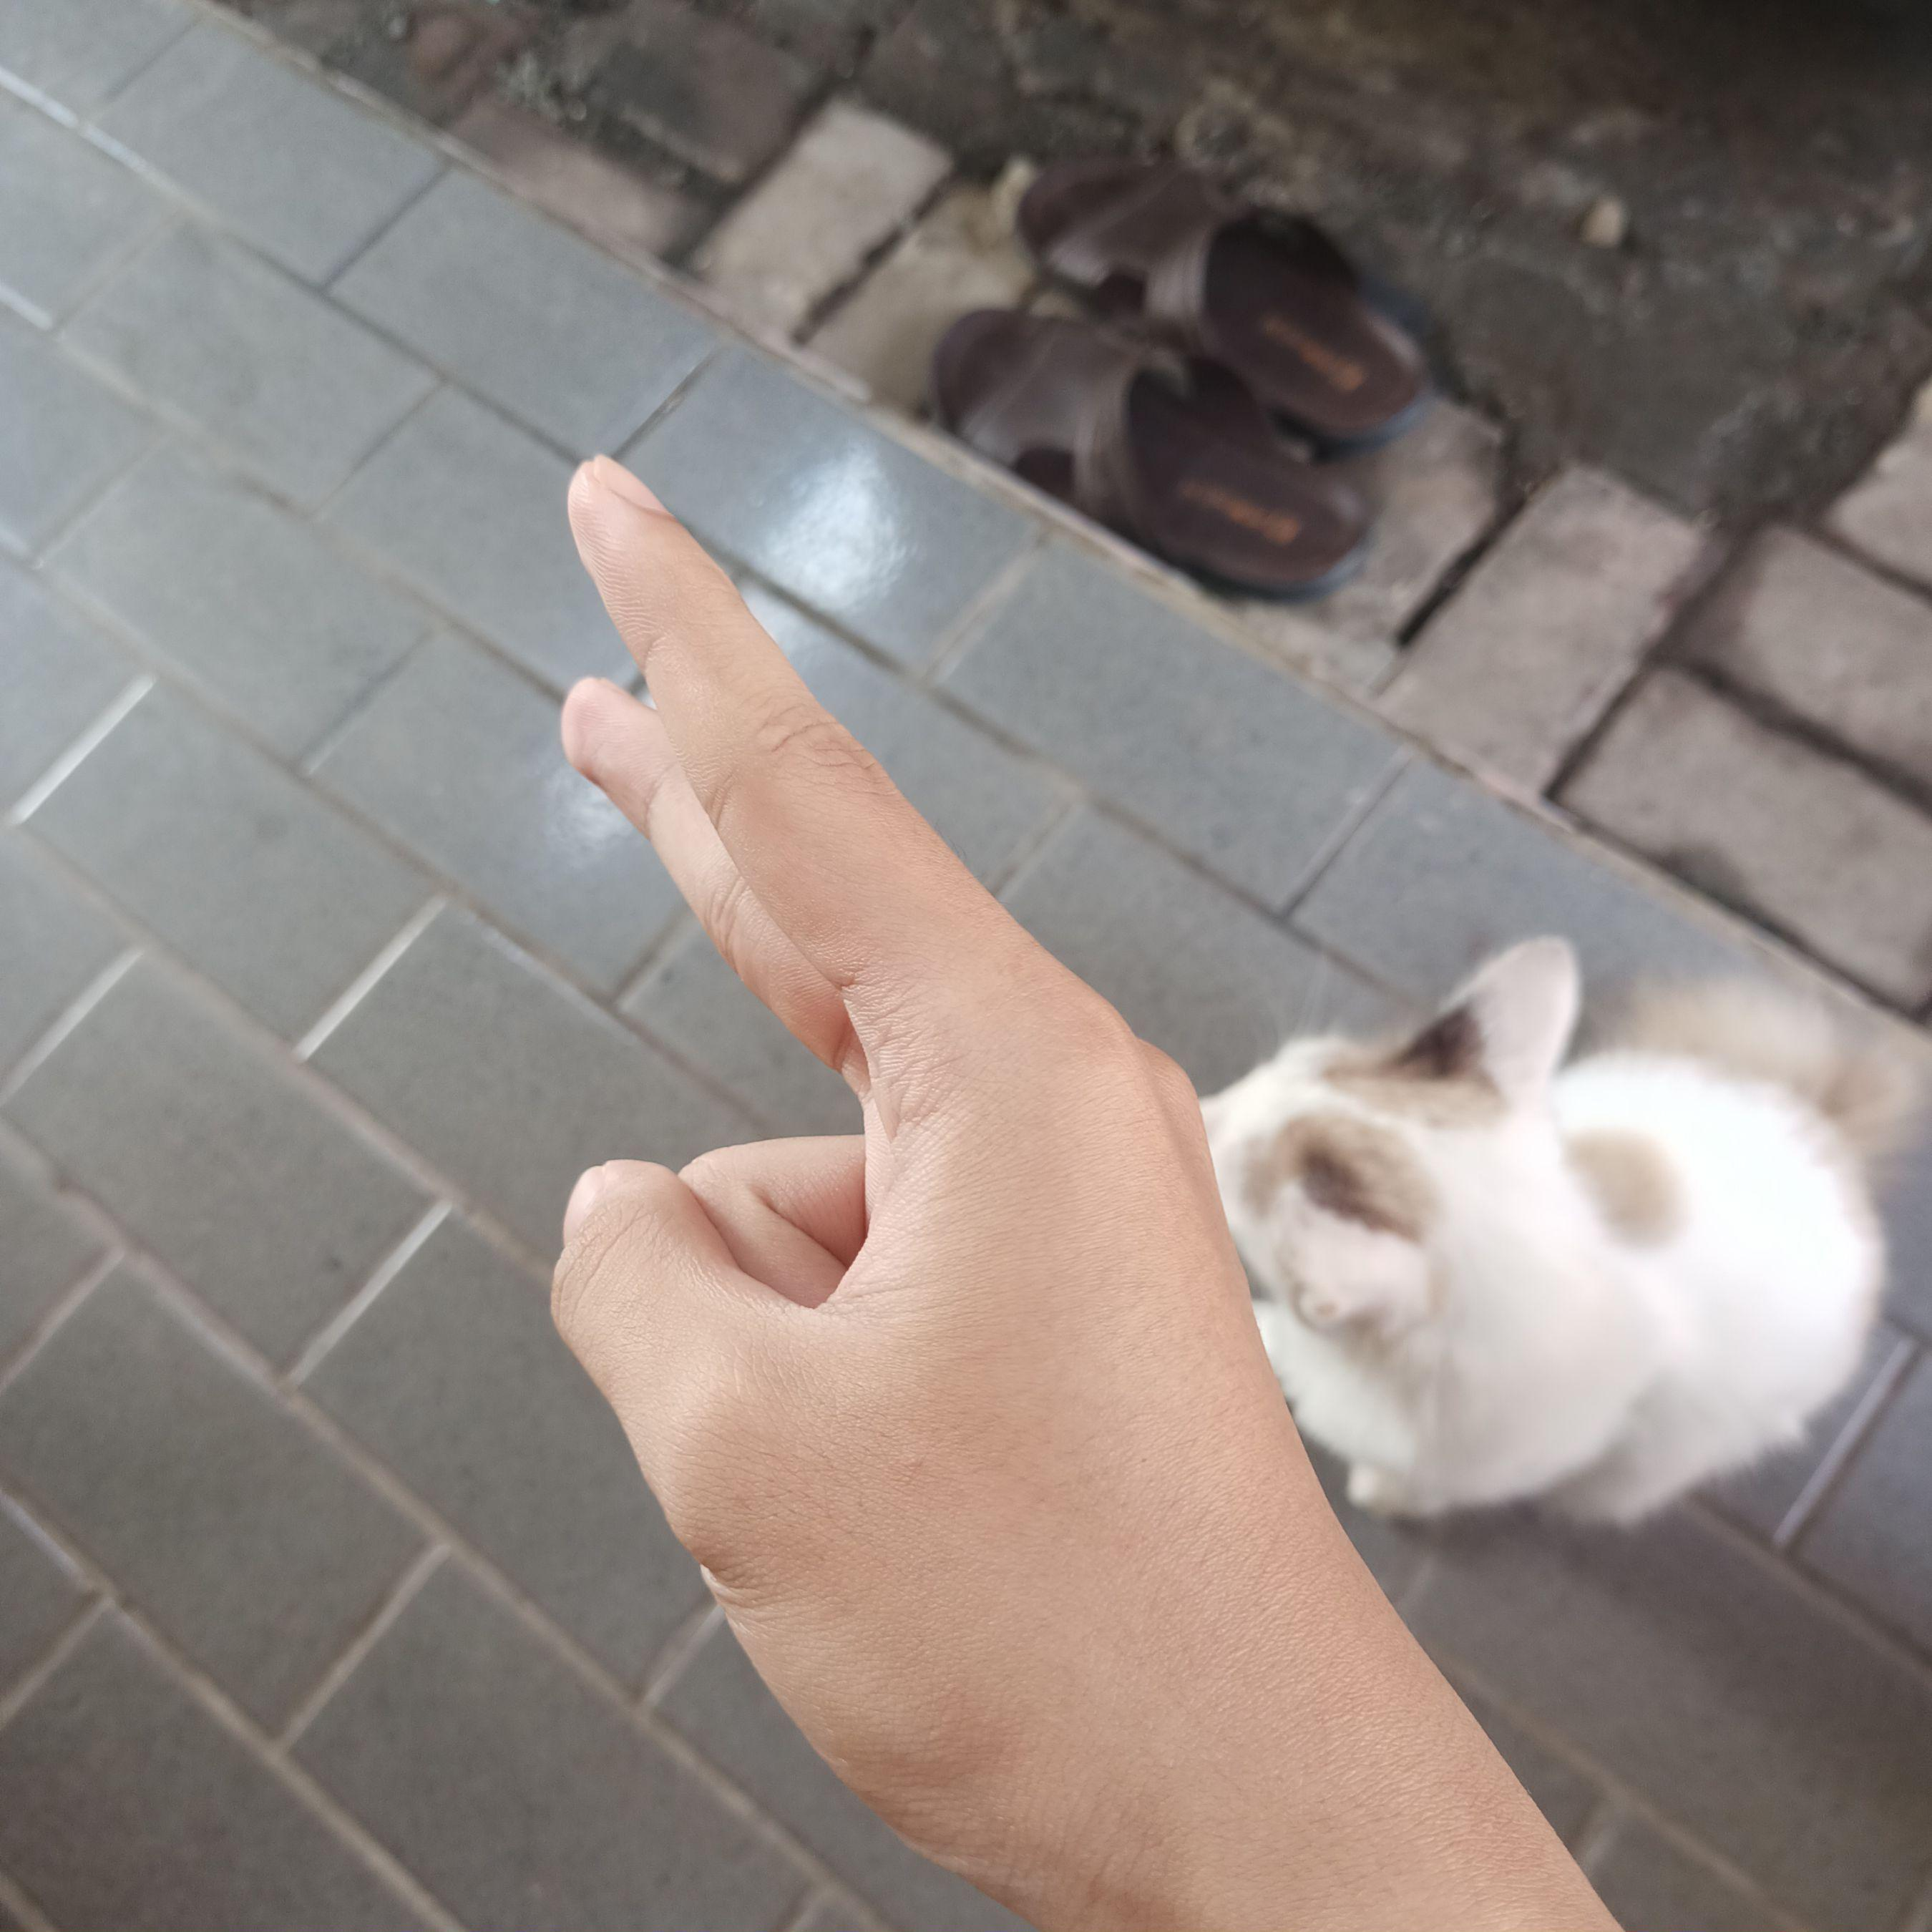scissors: (533, 426, 1391, 1918)
